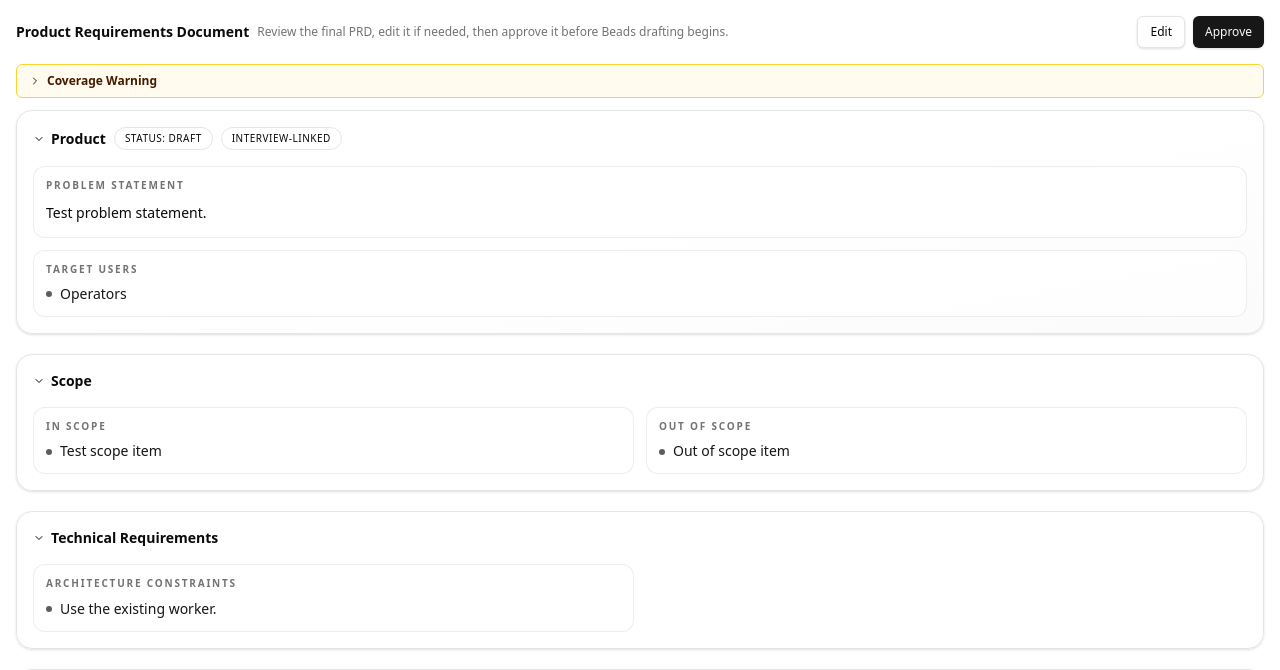
Scenario: PrdApprovalPane › shows unresolved PRD coverage gaps as a collapsible warning during approval
The image size is (1280, 670).
Check: the text "Test problem statement." is shown, box [46,203,206,222]
Check: the text "Remaining Gaps" is not shown
Click the button "Coverage Warning".
click(102, 80)  # box [17,65,1263,97]
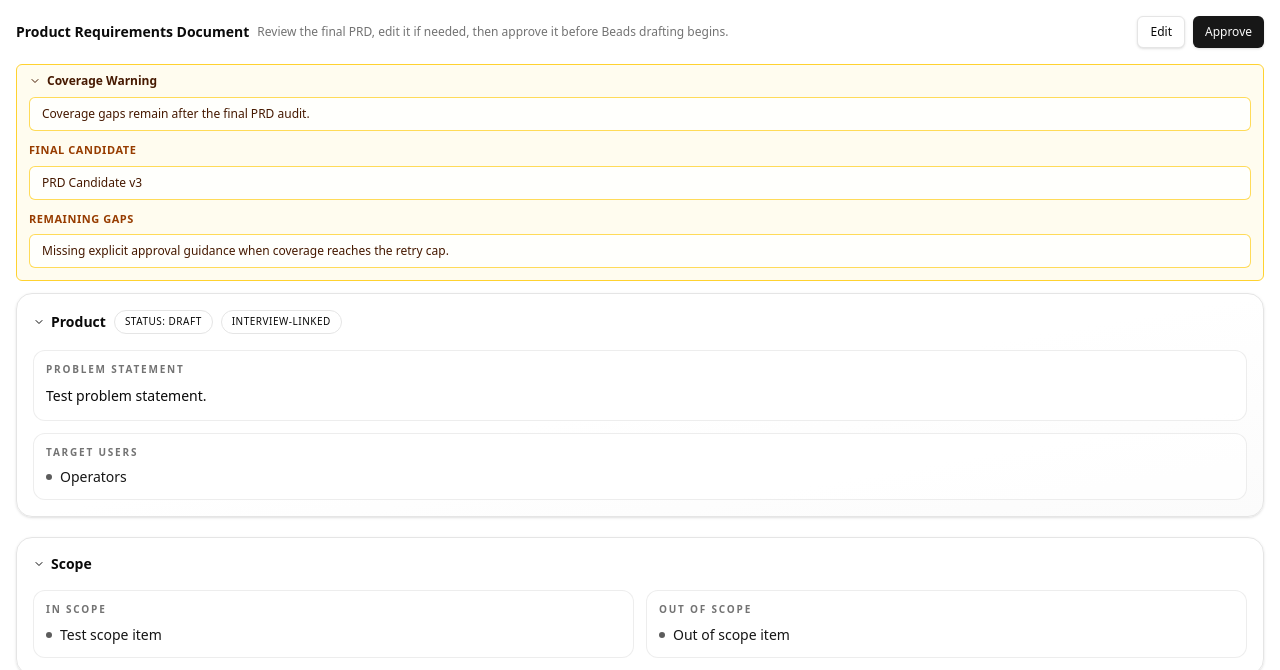
Check: the text "Coverage gaps remain after the final PRD audit." is shown, box [29,97,1251,131]
Check: the text "PRD Candidate v3" is shown, box [29,166,1251,200]
Check: the text "Missing explicit approval guidance when coverage reaches the retry cap." is shown, box [29,234,1251,268]
